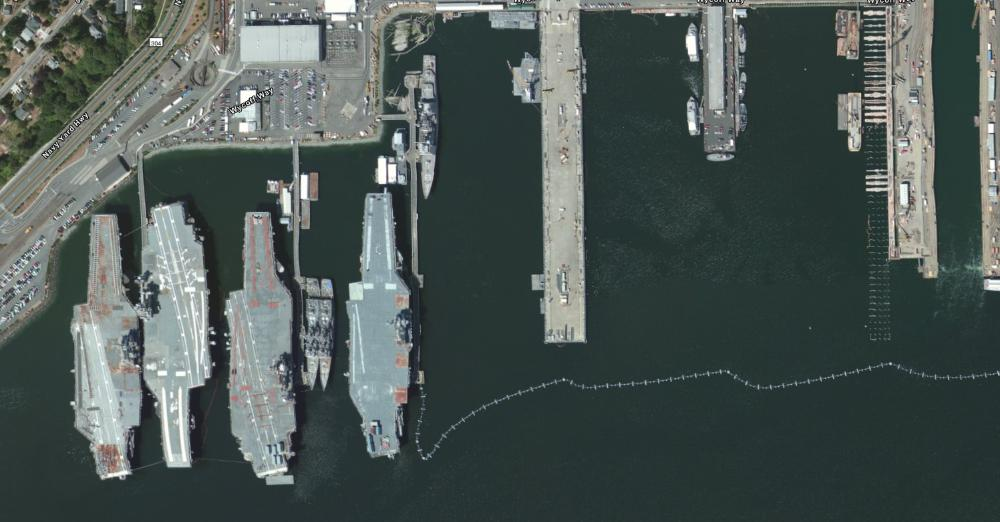carrier: (345, 185, 429, 468), (221, 198, 302, 488), (137, 196, 216, 475), (70, 202, 144, 484)
cruiser: (421, 55, 441, 203), (302, 276, 322, 389), (318, 277, 337, 394)
